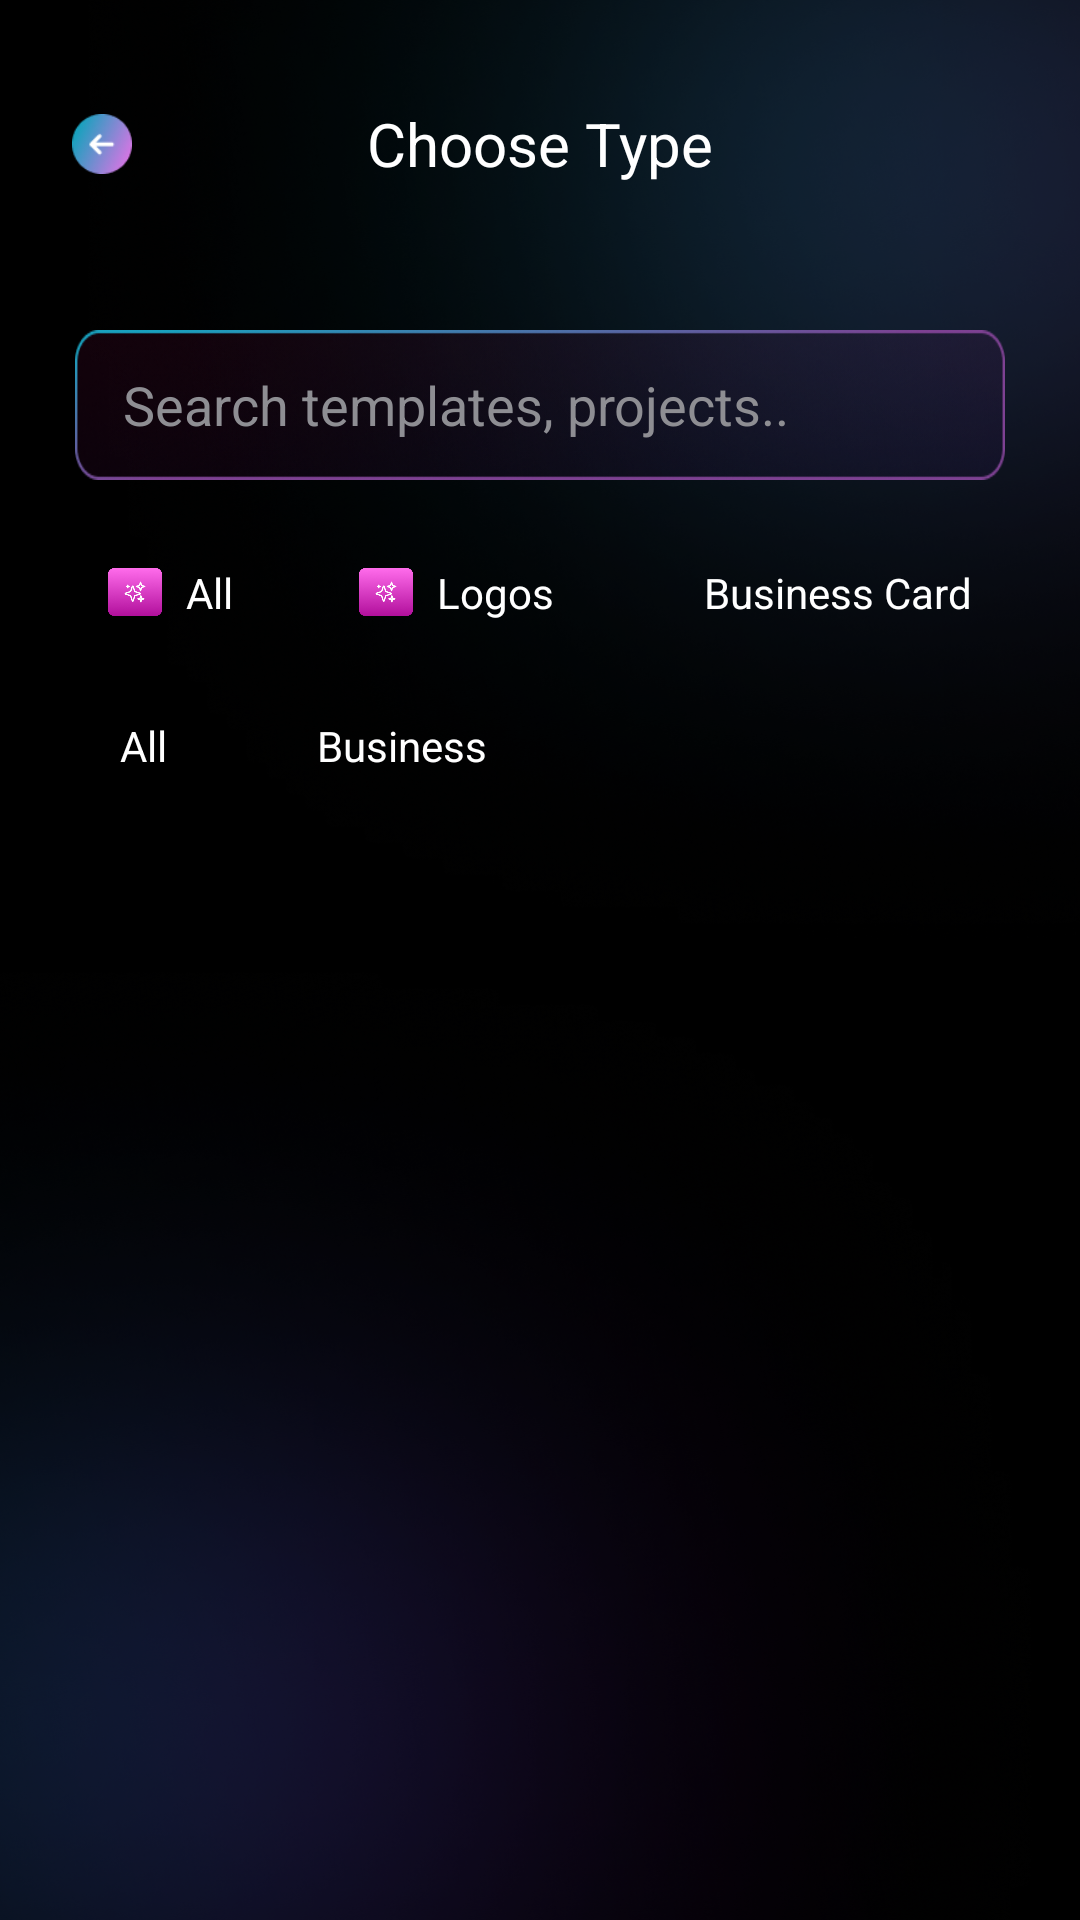

Icons on this 1080 × 1920 Android screen, each with the point to tap as [x,y]:
back arrow: [102,144]
